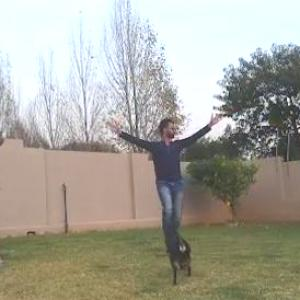takeoff: (98, 100, 229, 250)
